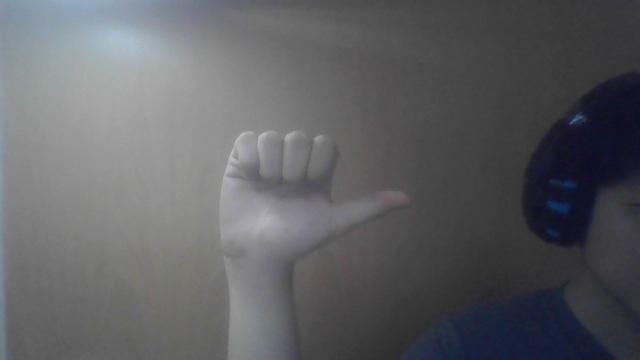left: (208, 122, 418, 262)
